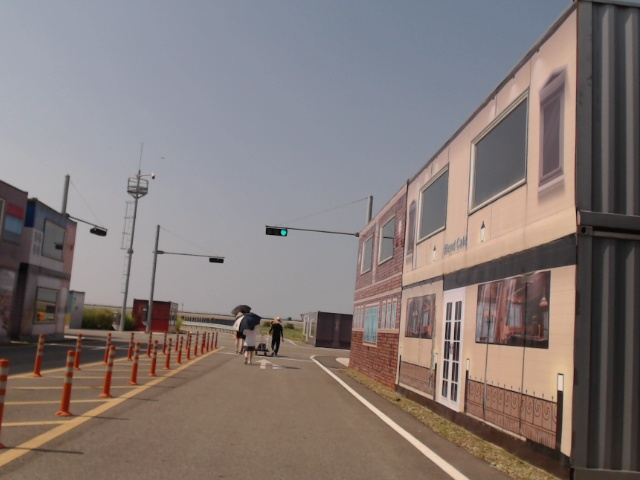green_3: (265, 227, 288, 237)
